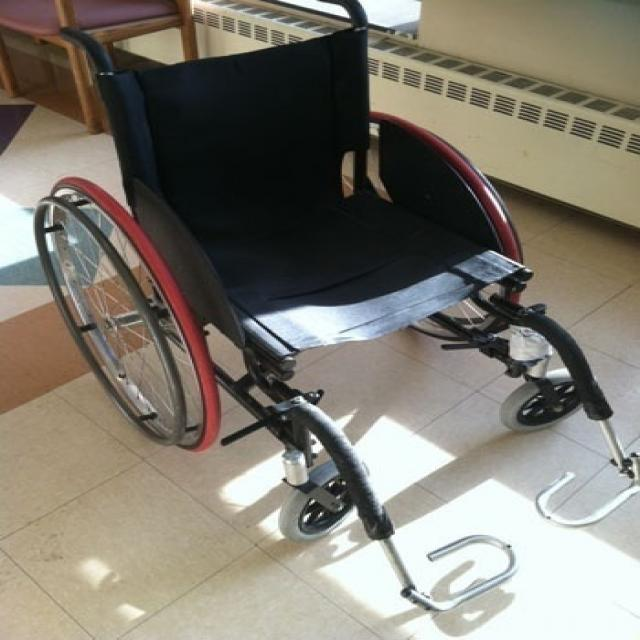wheelchair: (14, 6, 640, 640)
